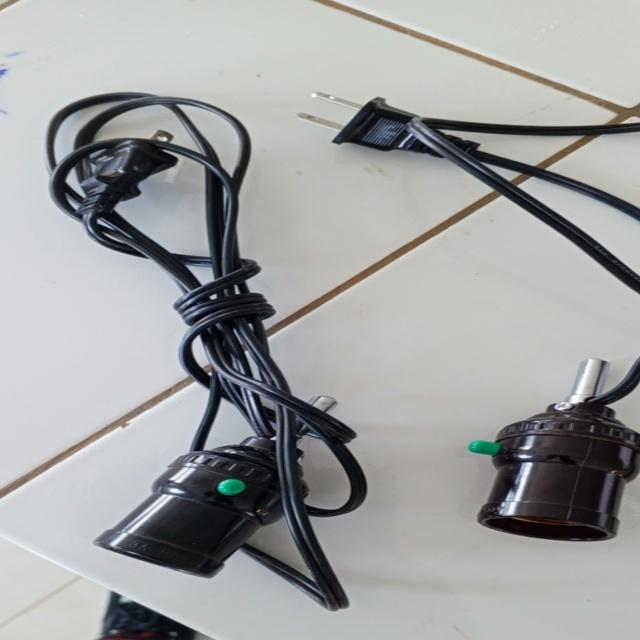Bulb Socket: (41, 80, 636, 605)
